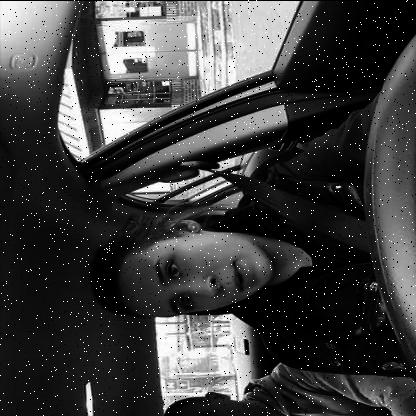seatbelt: (66, 151, 416, 321)
